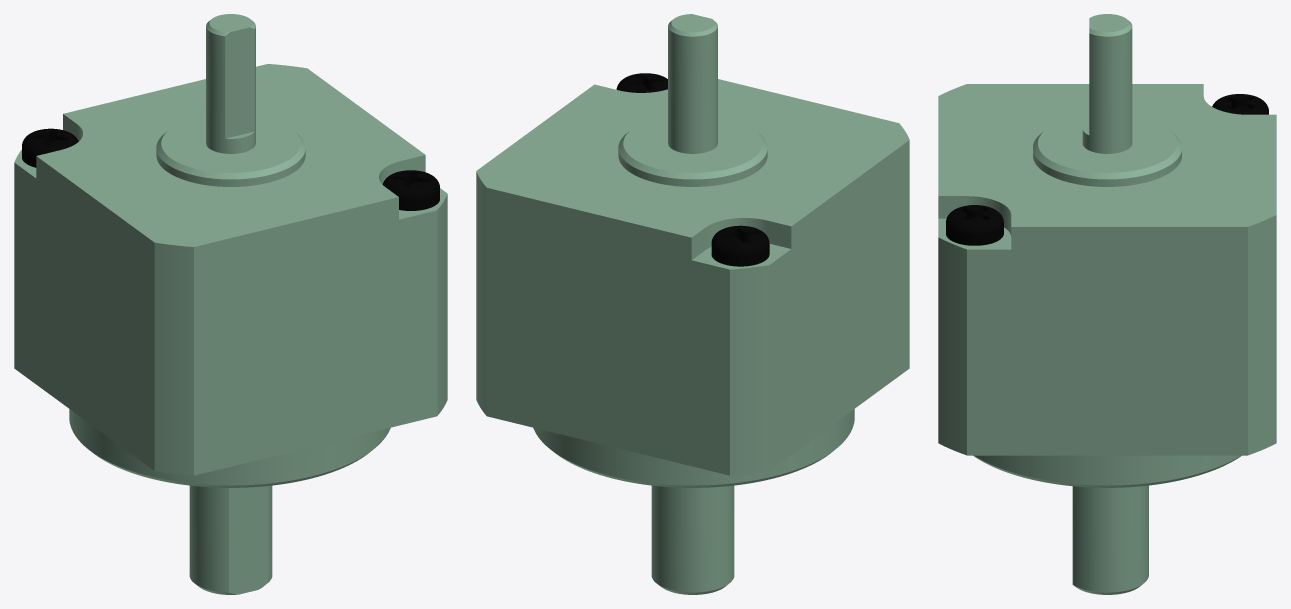
File: Main_CSF-5-30-1U_v2.dae
3 renders of one model, left to right at view 1: azimuth 30°, elevation 25°; view 2: azimuth 150°, elevation 25°; view 3: azimuth 270°, elevation 25°, orthographic.
Parts seen in each view (by area): view 1: Main_CSF-5-30-1U_v2; view 2: Main_CSF-5-30-1U_v2; view 3: Main_CSF-5-30-1U_v2.
Boxes of the visible parts, x1,y1,x2,y2 form: Main_CSF-5-30-1U_v2: (14, 14, 447, 594); Main_CSF-5-30-1U_v2: (476, 14, 909, 594); Main_CSF-5-30-1U_v2: (938, 14, 1276, 594).
Bounding box in the file's own units: 0.0204 × 0.0204 × 0.037.
